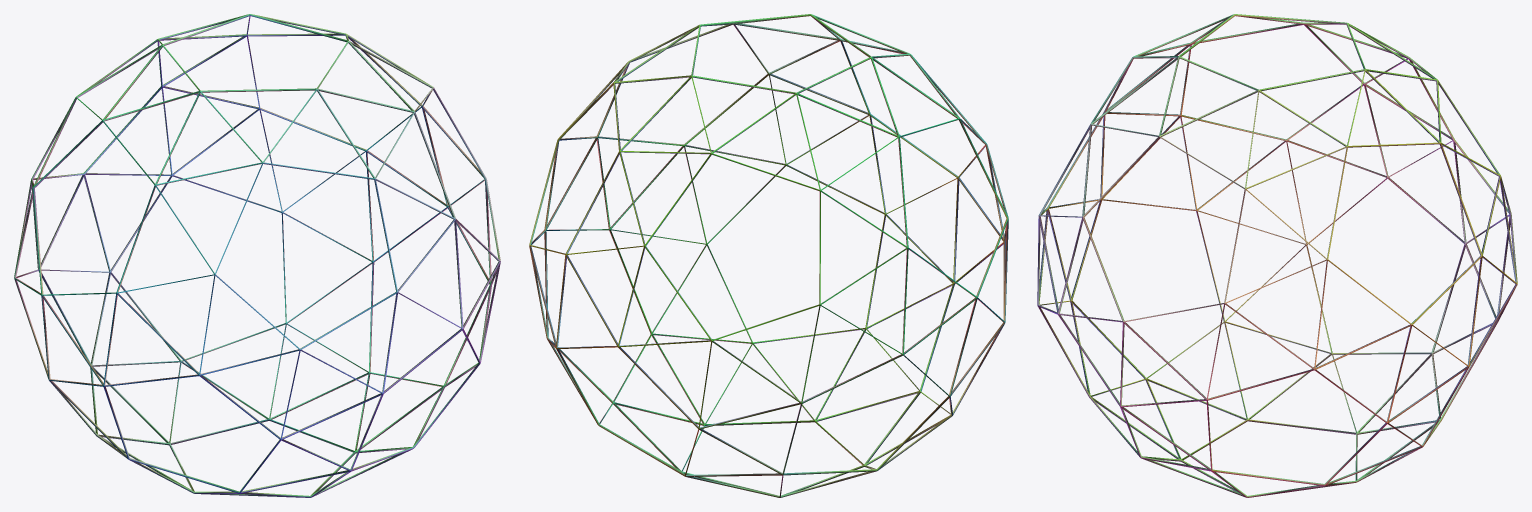
The picture shows the model from 3 angles, left to right: view 1: azimuth 30°, elevation 25°; view 2: azimuth 150°, elevation 25°; view 3: azimuth 270°, elevation 25°; orthographic projection.
Visible parts, largest first — view 1: anim_10_neg20_15; view 2: anim_10_neg20_15; view 3: anim_10_neg20_15.
Boxes of the visible parts, x1=… form: anim_10_neg20_15: x1=14, y1=14, x2=500, y2=497; anim_10_neg20_15: x1=529, y1=14, x2=1008, y2=497; anim_10_neg20_15: x1=1037, y1=14, x2=1517, y2=497.
Bounding box in the file's own units: 0.5 × 0.4646 × 0.4945.
